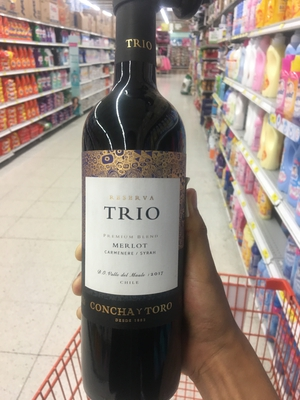trio merlot: (67, 32, 192, 400)
